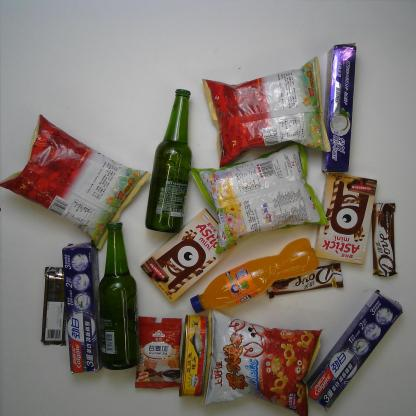Alcohol: (143, 88, 193, 234), (98, 219, 139, 370)
Canned Food: (179, 313, 214, 399)
Chocolate: (265, 263, 344, 297), (370, 200, 402, 280), (39, 264, 68, 347)
Dessert: (140, 209, 236, 305), (312, 168, 378, 264)
Drink: (188, 236, 319, 314)
Instant Drink: (132, 314, 182, 390)
Personal Hygiene: (306, 290, 403, 411), (60, 238, 103, 376), (318, 42, 356, 174)
Puffed Food: (1, 113, 151, 250), (188, 140, 328, 254), (199, 56, 332, 168), (202, 307, 323, 414)
